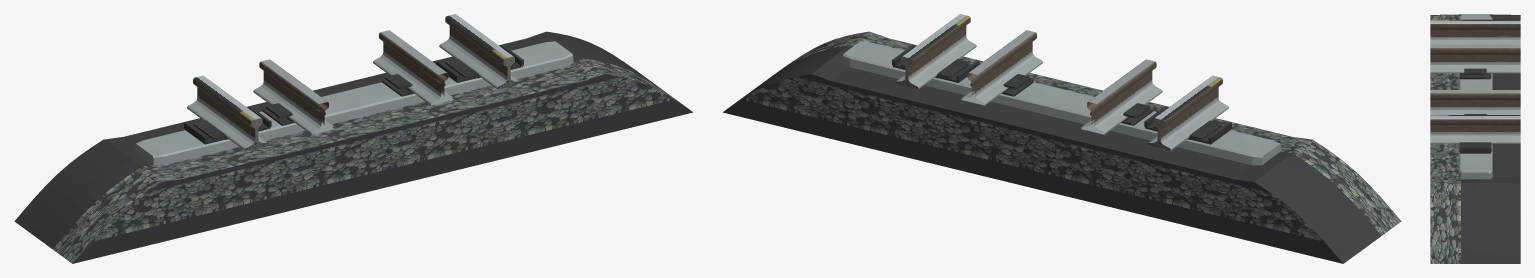
The model's file is center_guard_low.obj.
3 renders of one model, left to right at view 1: azimuth 30°, elevation 25°; view 2: azimuth 150°, elevation 25°; view 3: azimuth 270°, elevation 25°, orthographic. The views are drawn at different scales.
Visible parts, largest first — view 1: ballast, sleeper, center_guard_left, center_guard_right, rail_left, rail_right, fastener_left, fastener_right, center_fastener_left, center_fastener_right; view 2: ballast, sleeper, center_guard_left, center_guard_right, rail_left, rail_right, fastener_left, fastener_right, center_fastener_left, center_fastener_right; view 3: ballast, center_guard_left, rail_right, rail_left, center_guard_right, sleeper, fastener_right, center_fastener_left.
Part boxes in pixels (x1,y1,x2,y2): ballast: [14, 31, 693, 263]; sleeper: [134, 41, 573, 165]; center_guard_left: [253, 59, 334, 134]; center_guard_right: [373, 30, 454, 105]; rail_left: [187, 75, 266, 150]; rail_right: [439, 14, 519, 88]; fastener_left: [184, 106, 271, 144]; fastener_right: [436, 45, 523, 82]; center_fastener_left: [262, 103, 325, 125]; center_fastener_right: [382, 74, 445, 96]; ballast: [722, 31, 1401, 263]; sleeper: [842, 41, 1281, 165]; center_guard_left: [1081, 59, 1162, 134]; center_guard_right: [961, 30, 1042, 105]; rail_left: [1149, 75, 1228, 150]; rail_right: [896, 14, 976, 88]; fastener_left: [1144, 106, 1231, 144]; fastener_right: [892, 45, 979, 82]; center_fastener_left: [1090, 103, 1153, 125]; center_fastener_right: [970, 74, 1033, 96]; ballast: [1430, 14, 1520, 263]; center_guard_left: [1430, 44, 1520, 73]; rail_right: [1430, 115, 1520, 143]; rail_left: [1430, 19, 1520, 44]; center_guard_right: [1430, 90, 1520, 114]; sleeper: [1458, 14, 1492, 179]; fastener_right: [1459, 142, 1491, 153]; center_fastener_left: [1459, 68, 1491, 79].
Size of the model in its own units: 3.7 by 0.5683 by 0.6.
